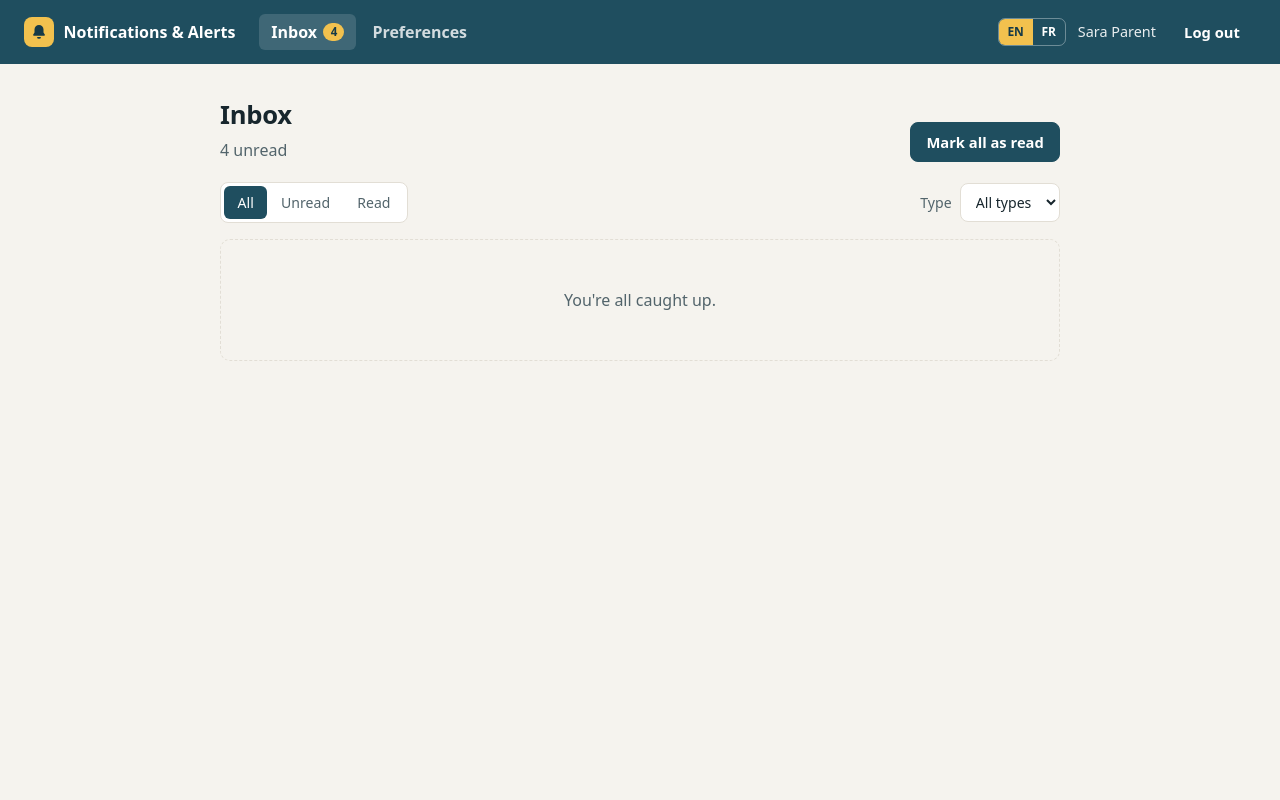
Test: Layout › logs out
Click the button "Log out" at [1212, 32], box [1168, 12, 1256, 52]
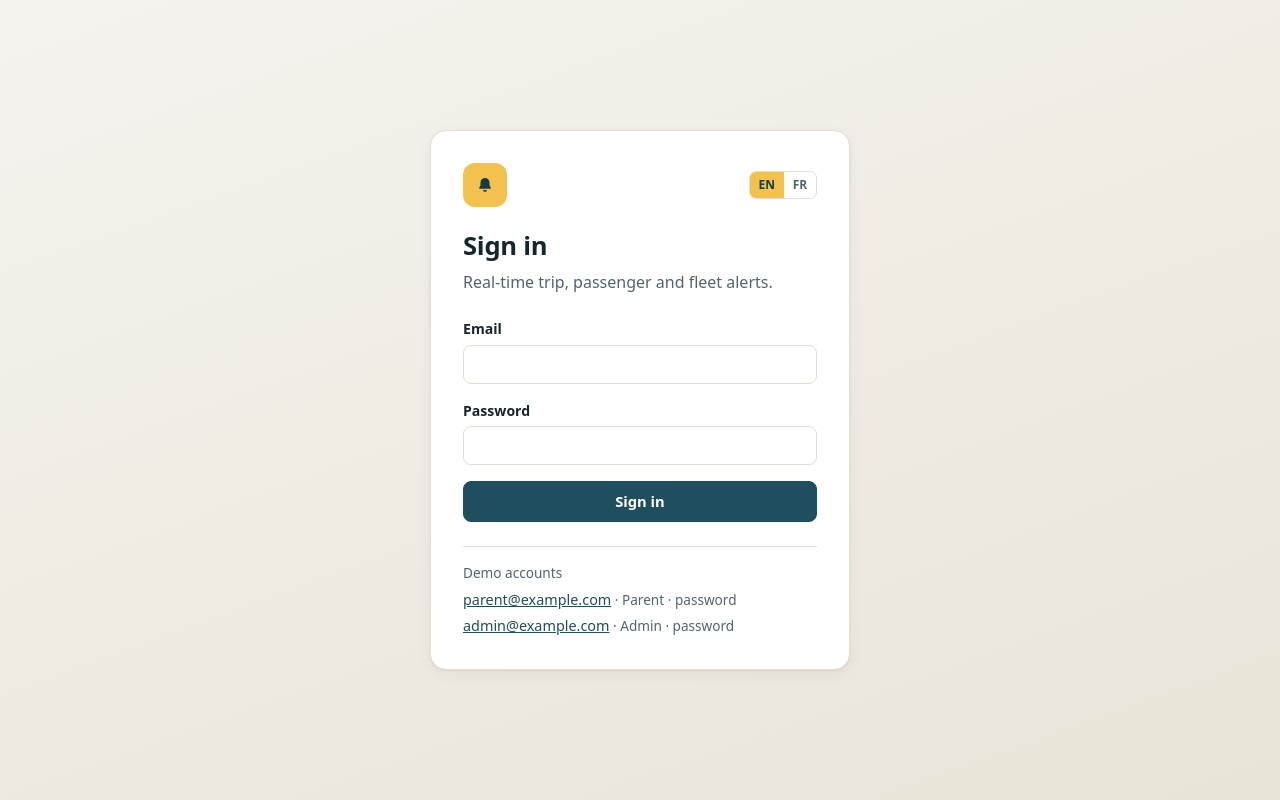
Check: the heading "Sign in" is shown, box [463, 228, 547, 264]
